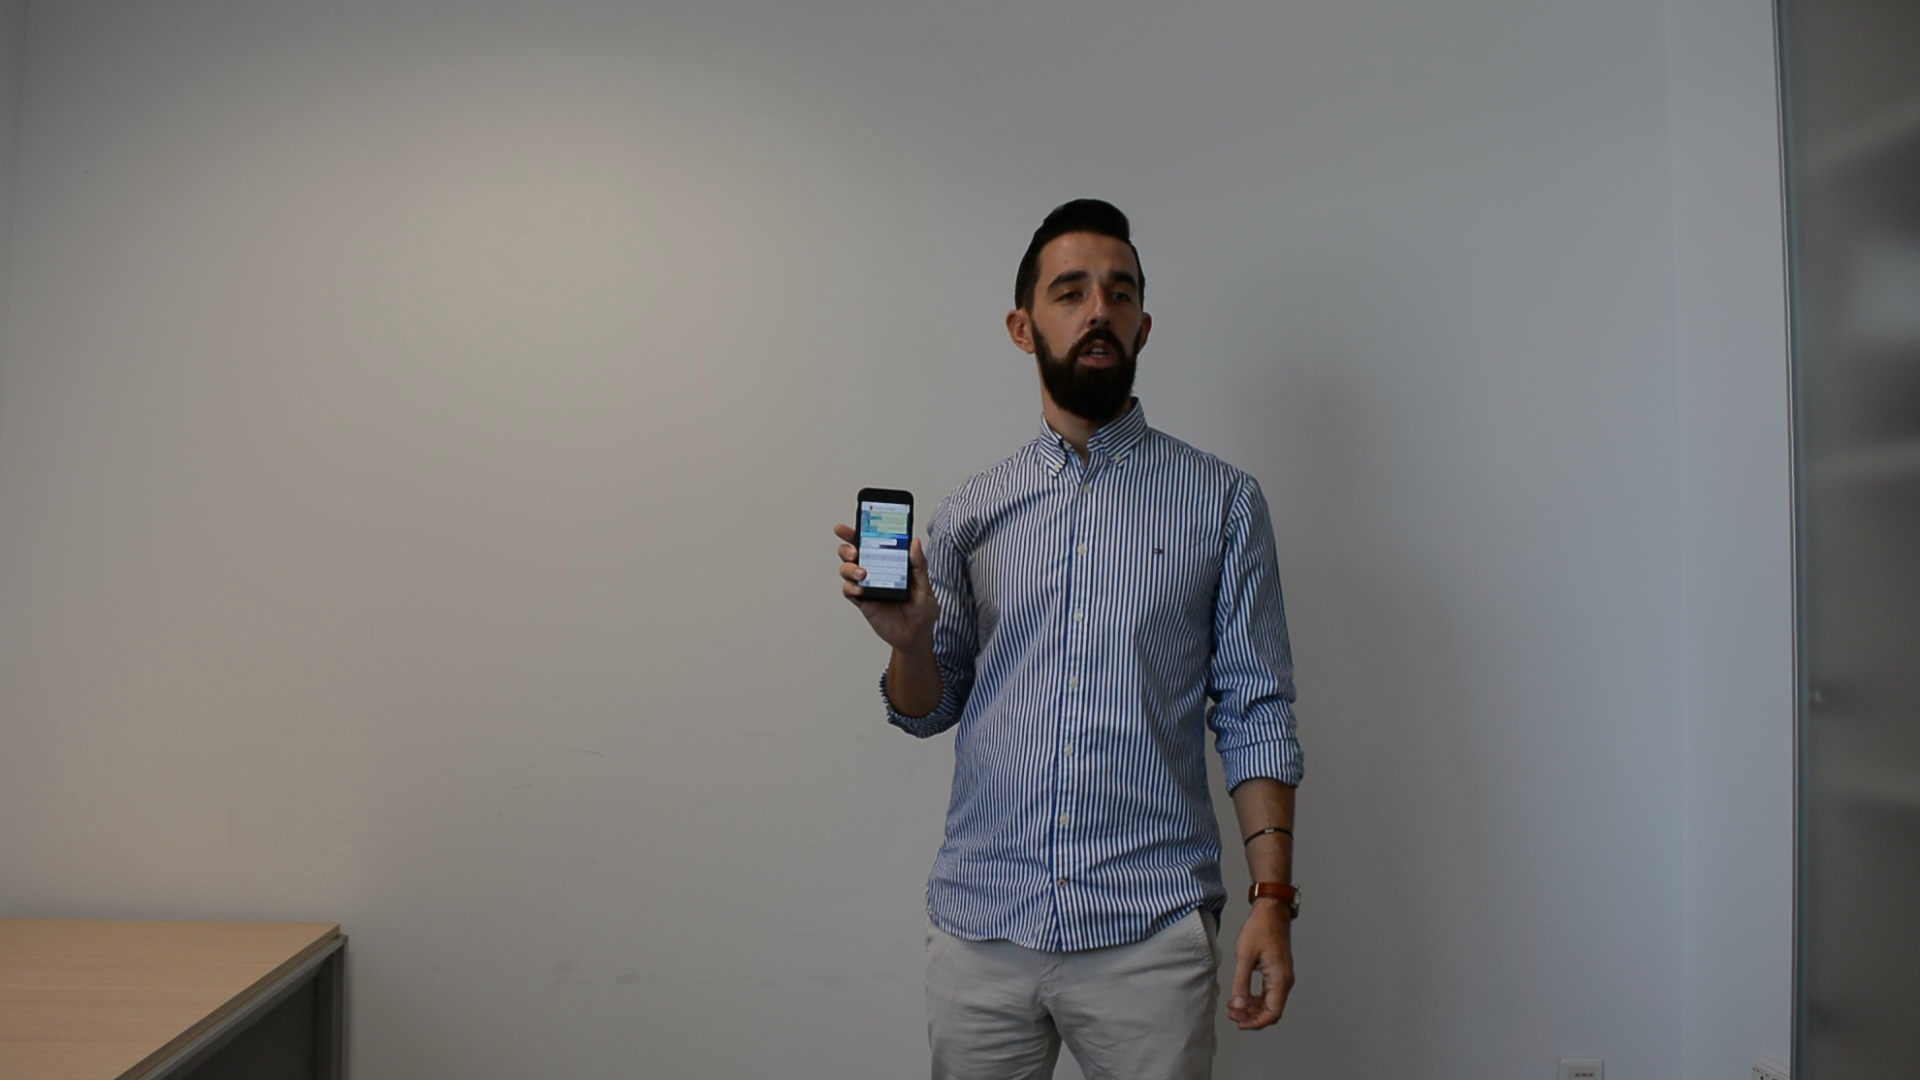smartphone: (849, 485, 916, 607)
